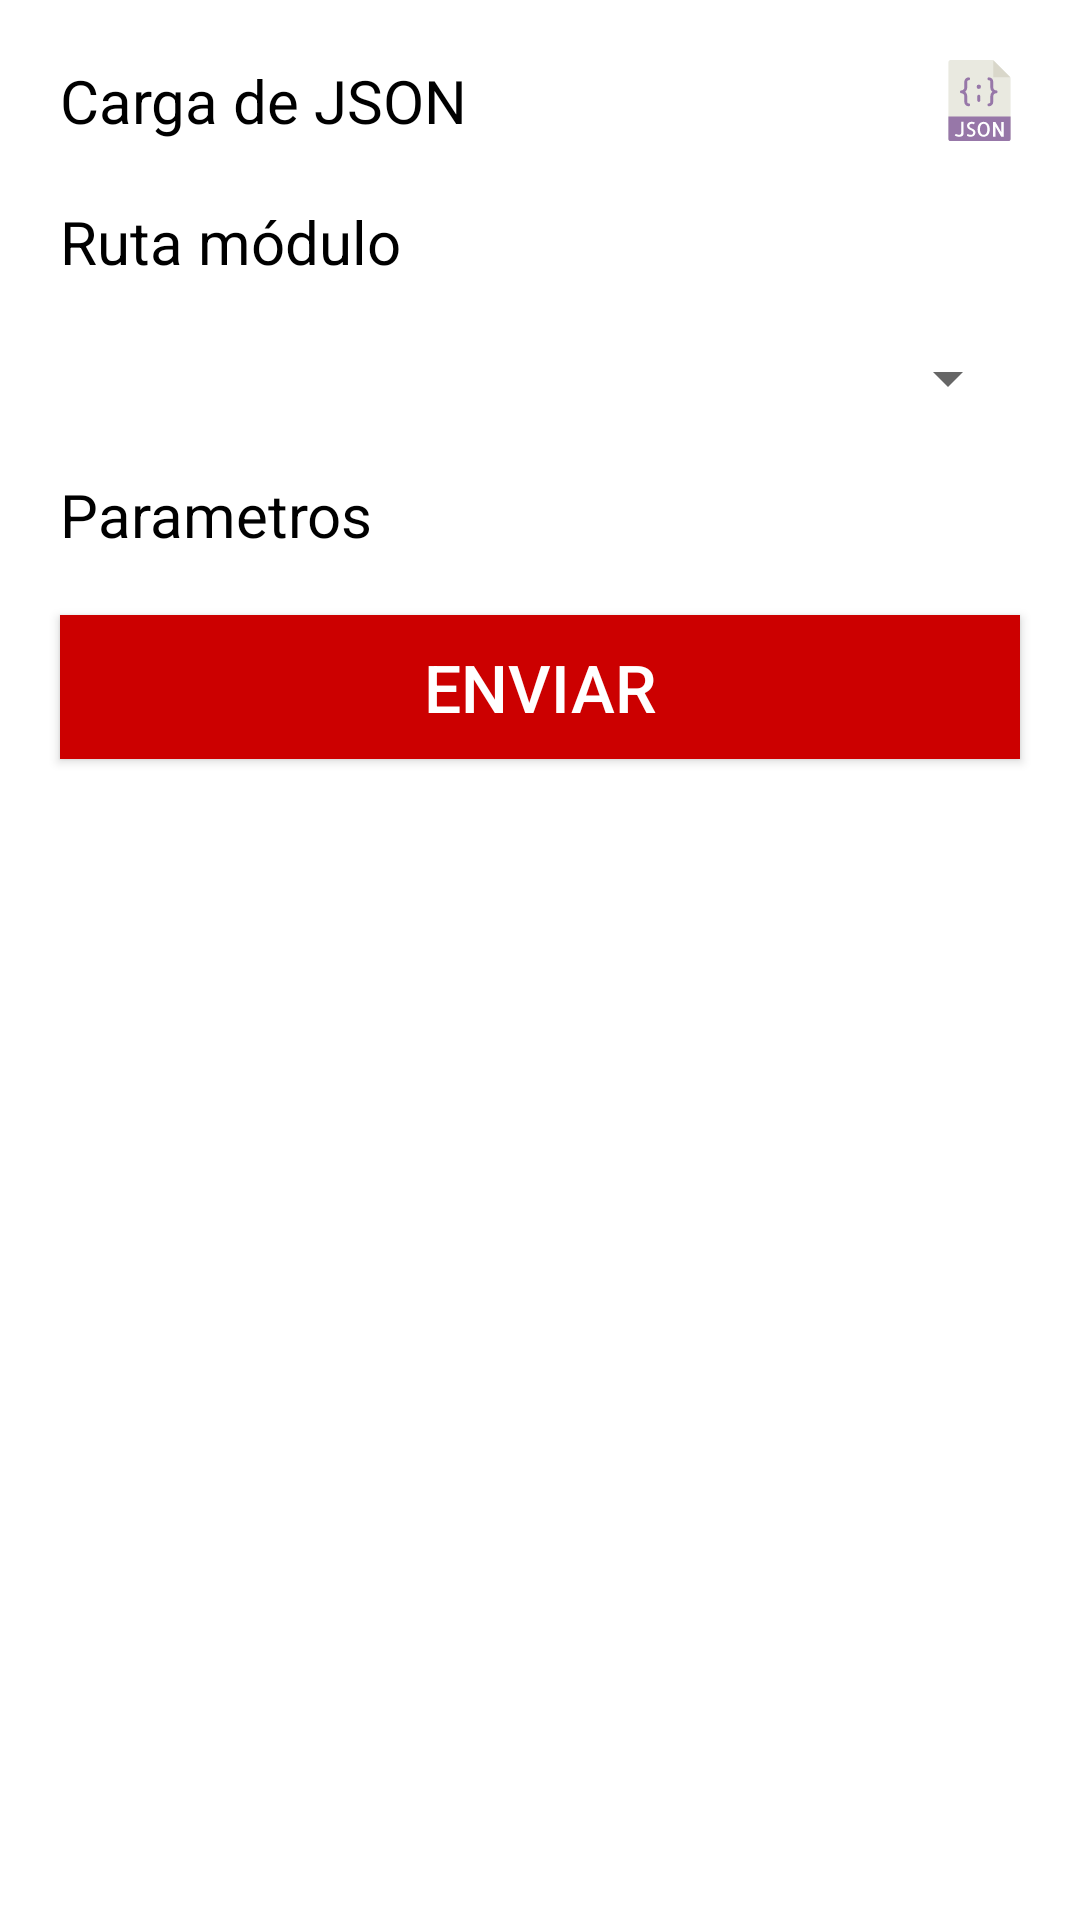

Icon bounding boxes for this 1080*1920 phone screenshot, format (x1, y1, x2, y2):
json file: (948, 60, 1011, 141)
